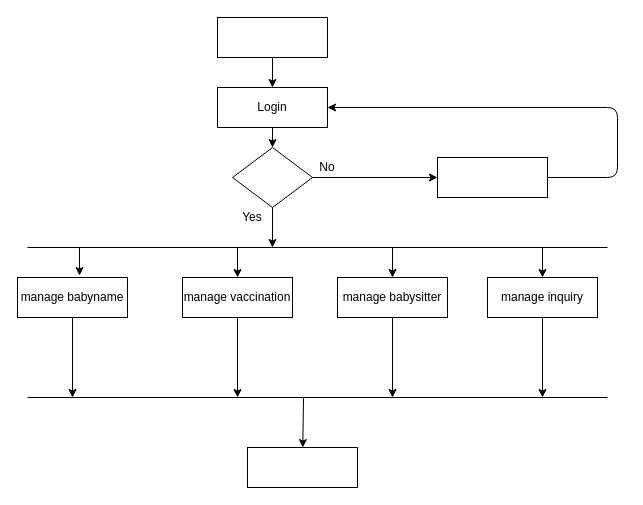
This 643x505 diagram has some shape labels left out. The shapes that lost their labels are listed below. From the top down, each one's centre as x and y in pixels, then its label:
At pixel 272 37: "Admin".
At pixel 492 177: "Registration".
At pixel 302 467: "Logout".
